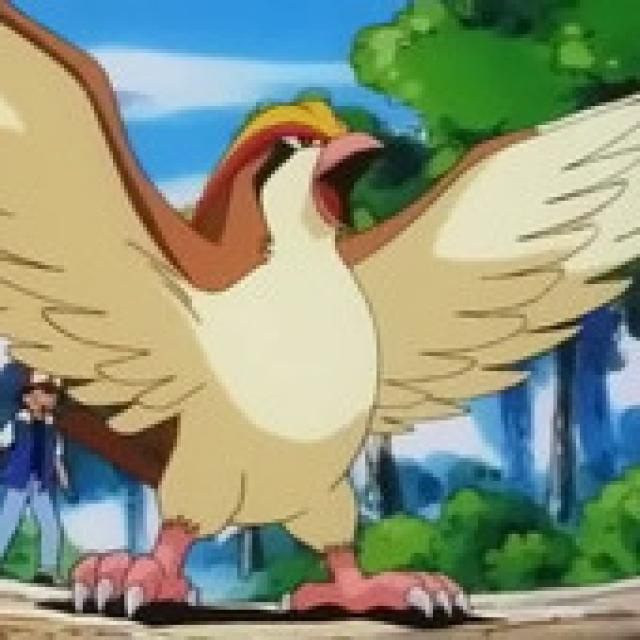Pidgeot: (69, 98, 501, 630)
